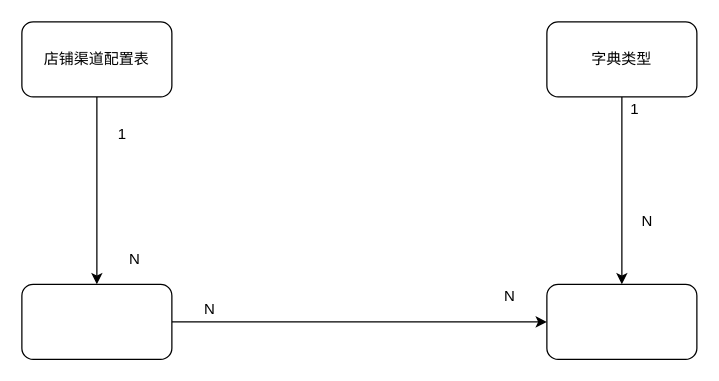
Image size: 719x381. Some labels were removed from this diagram. The centre of each missing label's shape, as x and y in pixels:
"字典值" belongs at (x=621, y=321).
"店铺渠道配置值表" belongs at (x=96, y=321).
